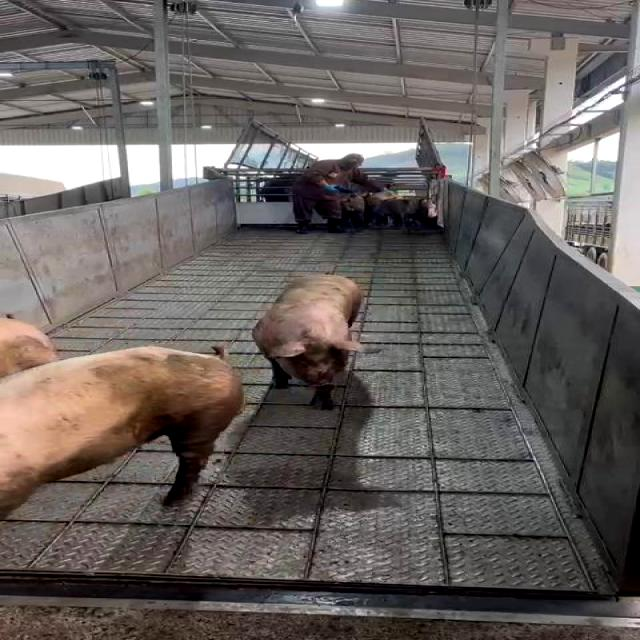pig: (0, 346, 243, 517), (252, 275, 364, 409)
